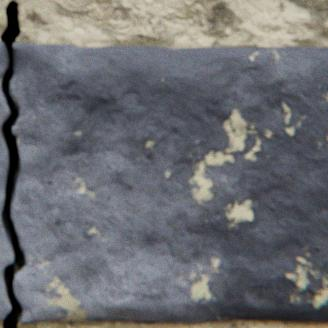broken_brick: (9, 43, 327, 321), (0, 41, 13, 318)
crack: (0, 0, 25, 327)
